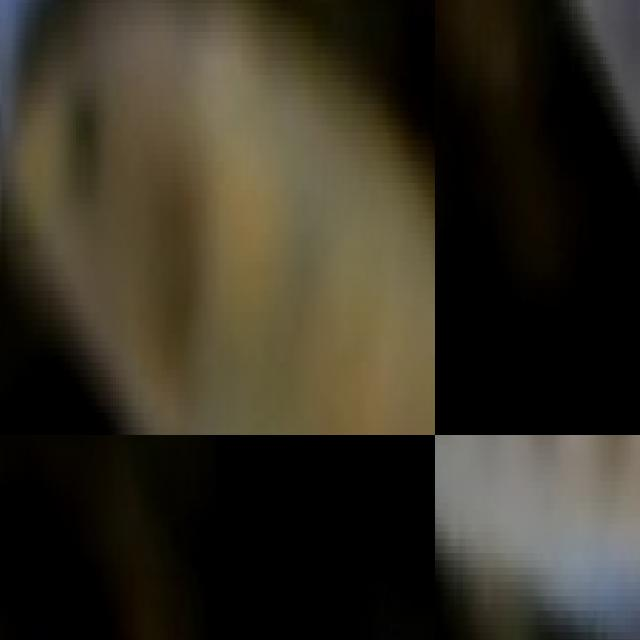fish: (0, 0, 435, 435), (435, 435, 640, 640)
